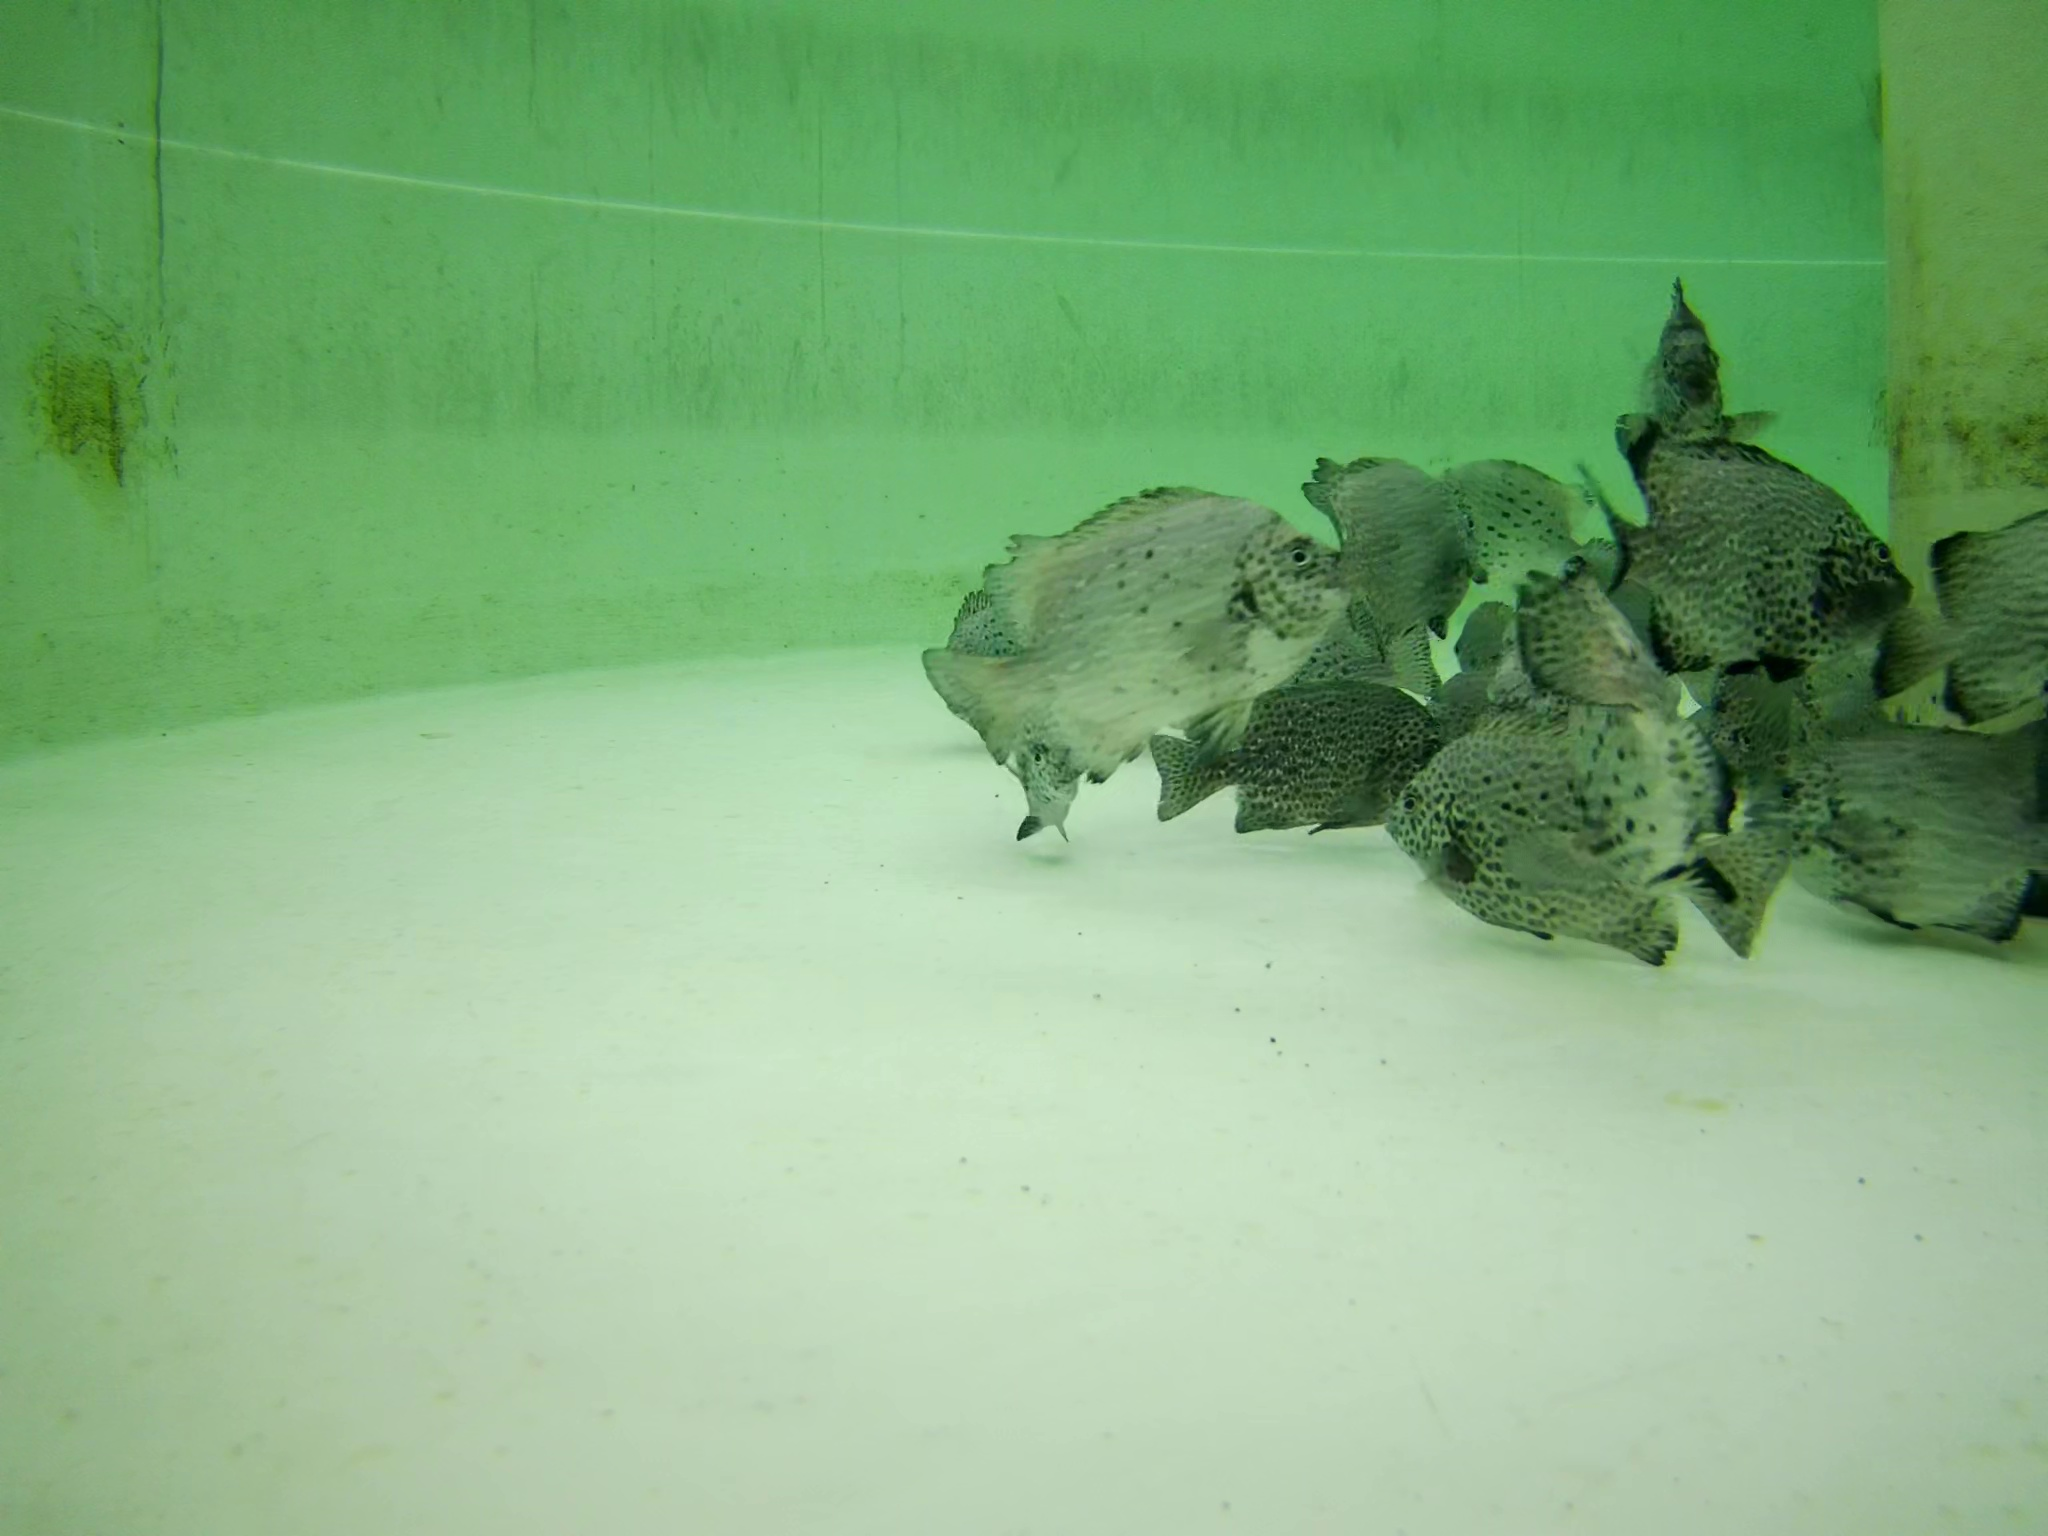fish: (1384, 679, 1790, 986), (930, 489, 1348, 745), (1582, 436, 1929, 681), (1777, 721, 2048, 941), (1148, 686, 1443, 847), (1300, 455, 1480, 653), (1888, 508, 2048, 729), (987, 579, 1100, 834), (1435, 440, 1596, 603), (1627, 281, 1764, 452), (1701, 653, 1811, 766)
